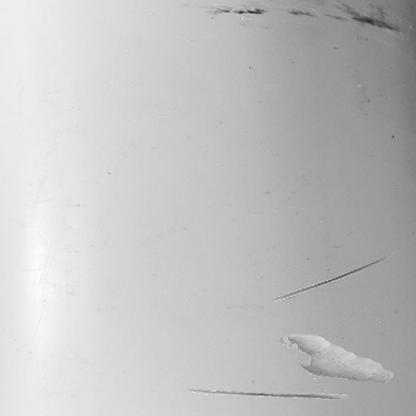sunshang: (269, 253, 391, 303), (286, 333, 394, 383), (187, 386, 349, 401)
